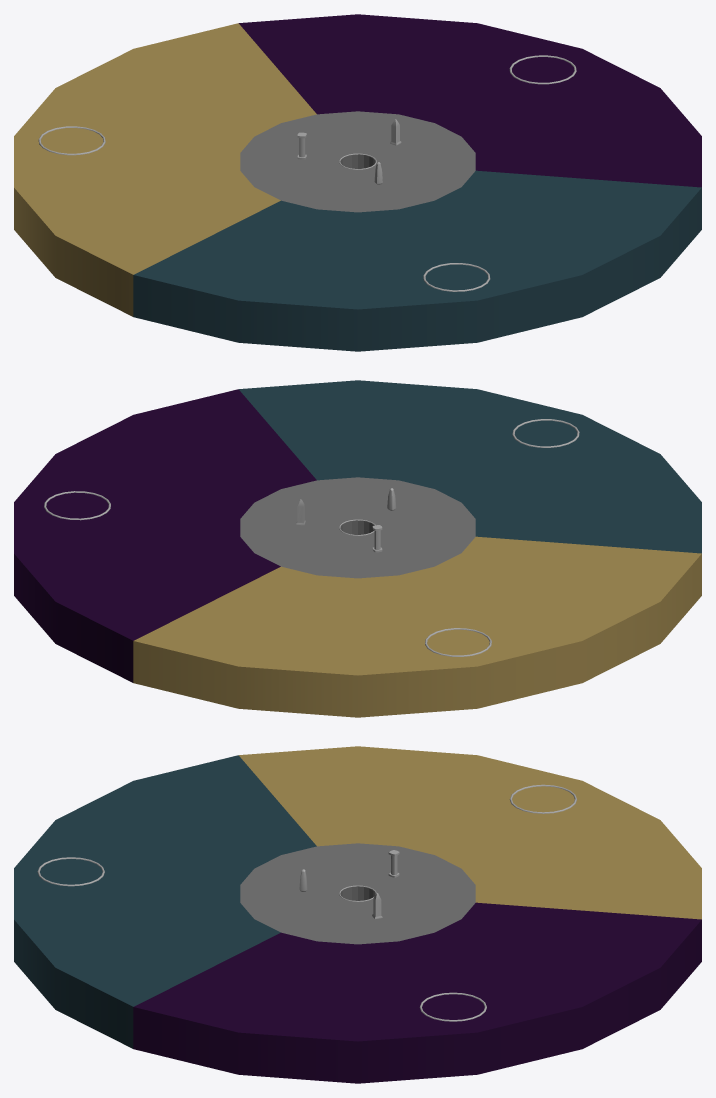
Rendered from TerrainTempAsset.fbx.
3 renders of one model, top to bottom at view 1: azimuth 30°, elevation 25°; view 2: azimuth 150°, elevation 25°; view 3: azimuth 270°, elevation 25°, orthographic.
Visible parts, largest first — view 1: terrainCrystalBiome, terrainDesertBiome, terrainTropicalBiome, terrainCentralRuins; view 2: terrainDesertBiome, terrainTropicalBiome, terrainCrystalBiome, terrainCentralRuins; view 3: terrainTropicalBiome, terrainCrystalBiome, terrainDesertBiome, terrainCentralRuins.
Part boxes in pixels (<box>): terrainCrystalBiome: <box>133,170,701,351</box>; terrainDesertBiome: <box>14,23,316,316</box>; terrainTropicalBiome: <box>238,14,701,187</box>; terrainCentralRuins: <box>240,111,475,212</box>; terrainDesertBiome: <box>133,536,701,717</box>; terrainTropicalBiome: <box>14,389,316,682</box>; terrainCrystalBiome: <box>238,380,701,553</box>; terrainCentralRuins: <box>240,477,475,578</box>; terrainTropicalBiome: <box>133,902,701,1083</box>; terrainCrystalBiome: <box>14,755,316,1048</box>; terrainDesertBiome: <box>238,746,701,919</box>; terrainCentralRuins: <box>240,843,475,944</box>.
Size of the model in its own units: 50.17 by 9.94 by 49.41.
